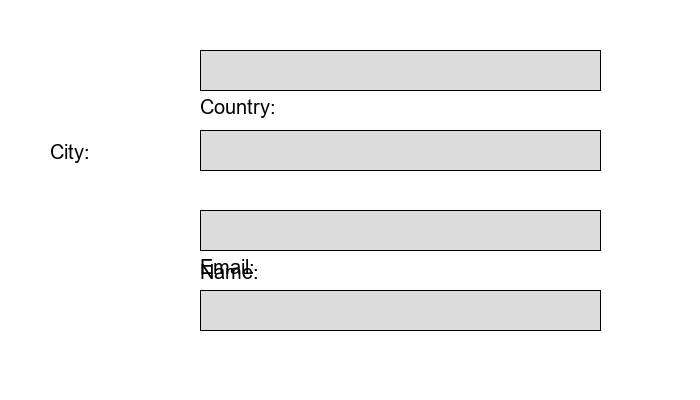Label: (200, 95, 270, 114), (200, 260, 253, 275), (200, 255, 249, 270), (50, 140, 84, 159)
Textbox: (200, 50, 600, 90), (200, 130, 600, 170), (200, 210, 600, 250), (200, 290, 600, 330)
